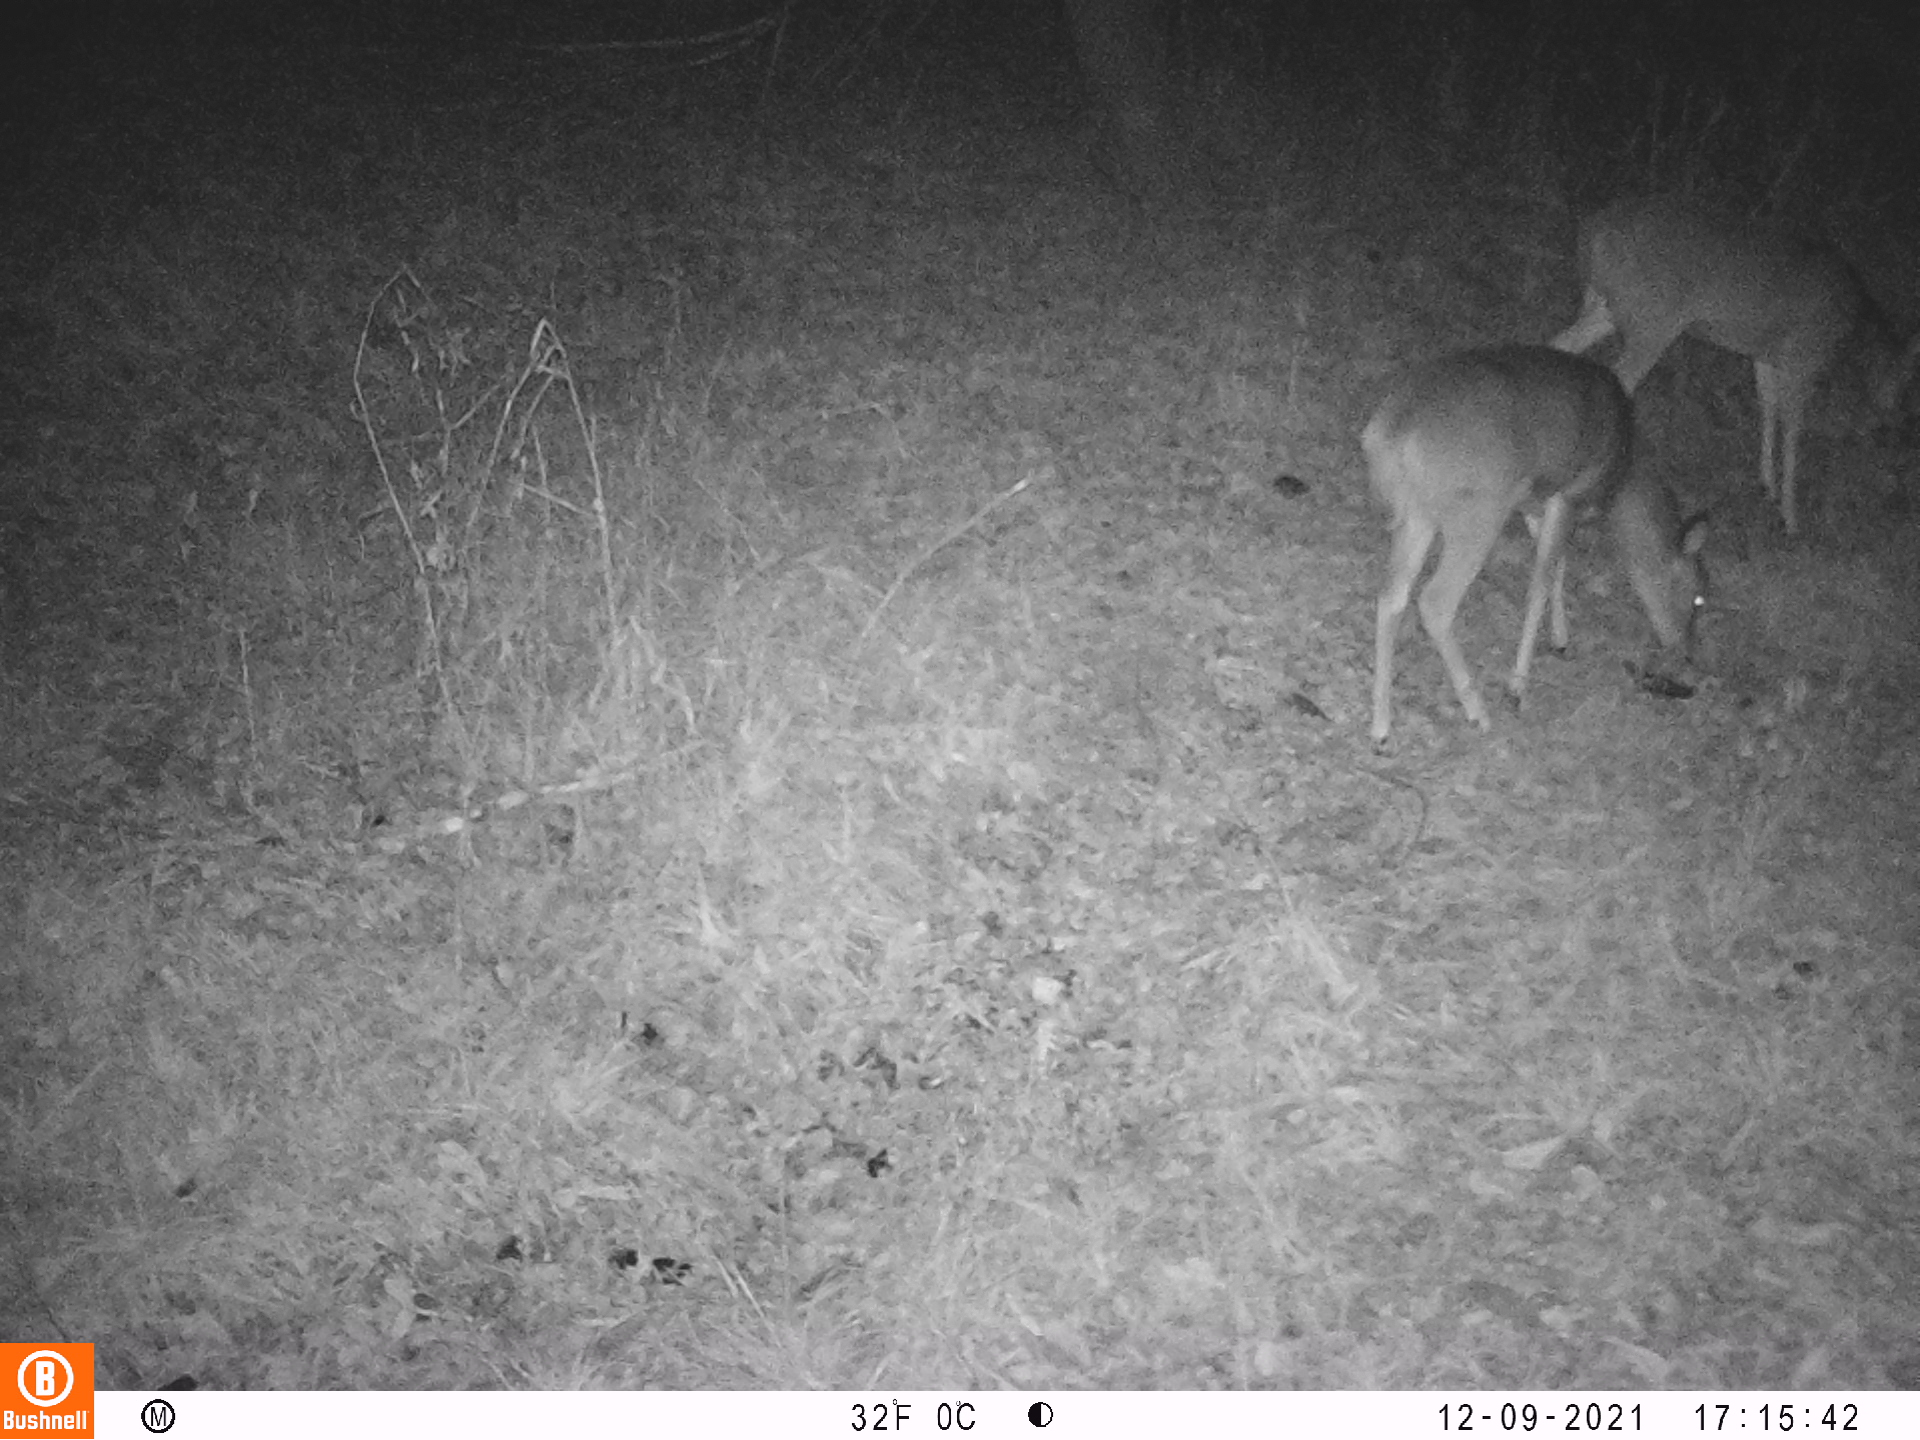Deer: (1550, 188, 1918, 535)
DeerDoe: (1361, 343, 1716, 749)
